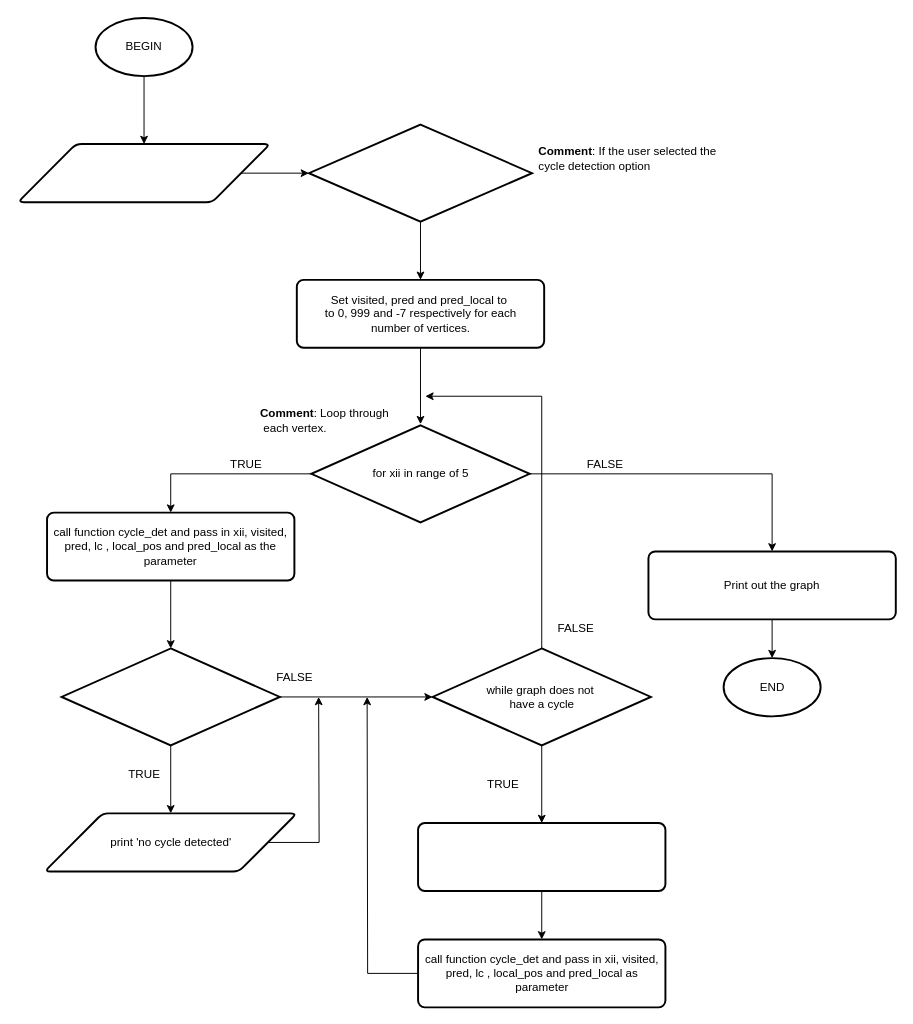
Some shapes in this 913 by 1024 pixel diagram are drawn without their labels. The shapes that lost their labels are listed below. From the top down, each one's centre as x and y in pixels, then its label:
At pixel 143 173: "receive input from user, val".
At pixel 420 172: "if val equals to 6".
At pixel 170 696: "if the graph does not have a cycle".
At pixel 541 856: "add random edges to the graph".
